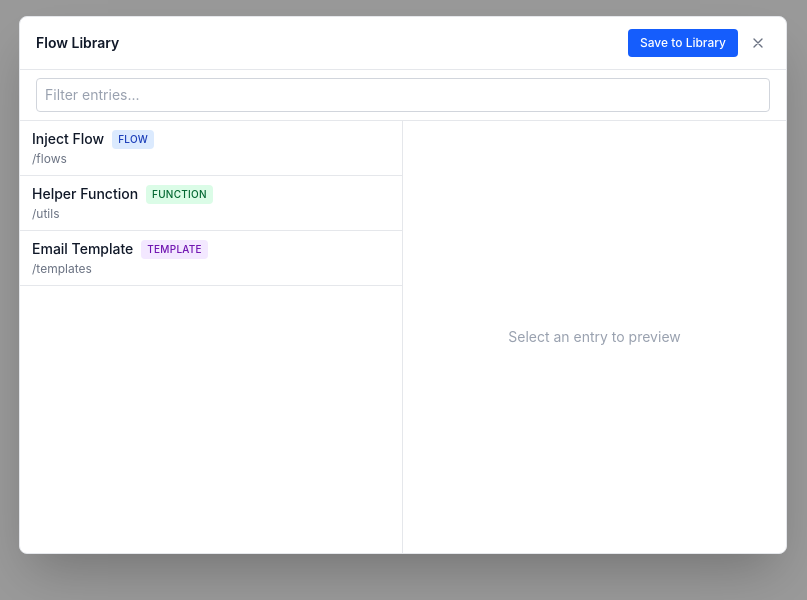
Scenario: LibraryDialog › rename › cancels rename on Escape
Click the button "Inject Flow flow /flows" at coordinates (68, 139), box x1=20 y1=121 x2=402 y2=176
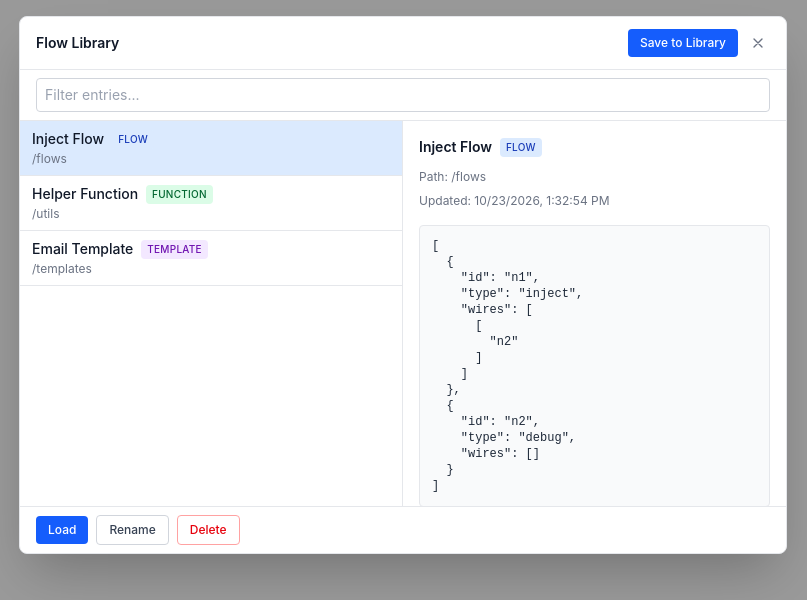
Click the button with test id "library-rename-button" at coordinates (133, 530), box x1=96 y1=515 x2=169 y2=545
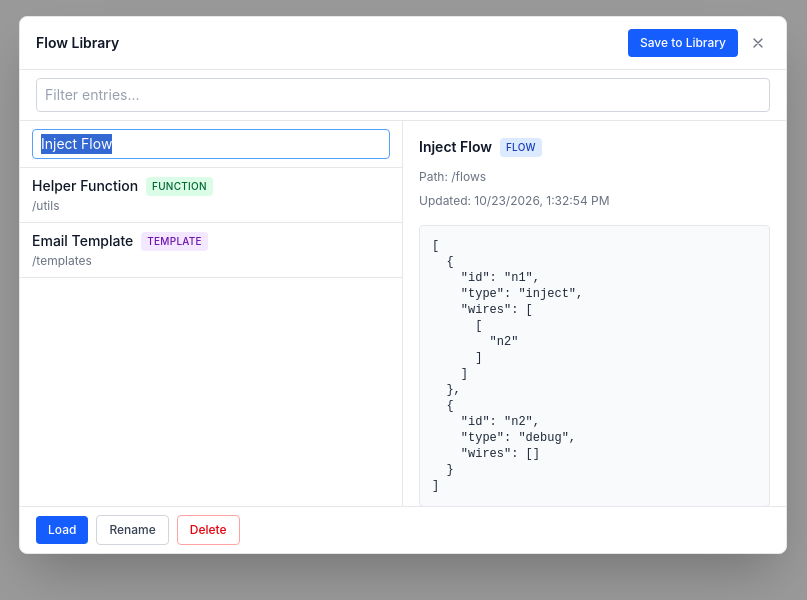
Replace the text in the field with test id "library-rename-input" with "Should Not Apply" at coordinates (211, 144), box x1=32 y1=129 x2=390 y2=159
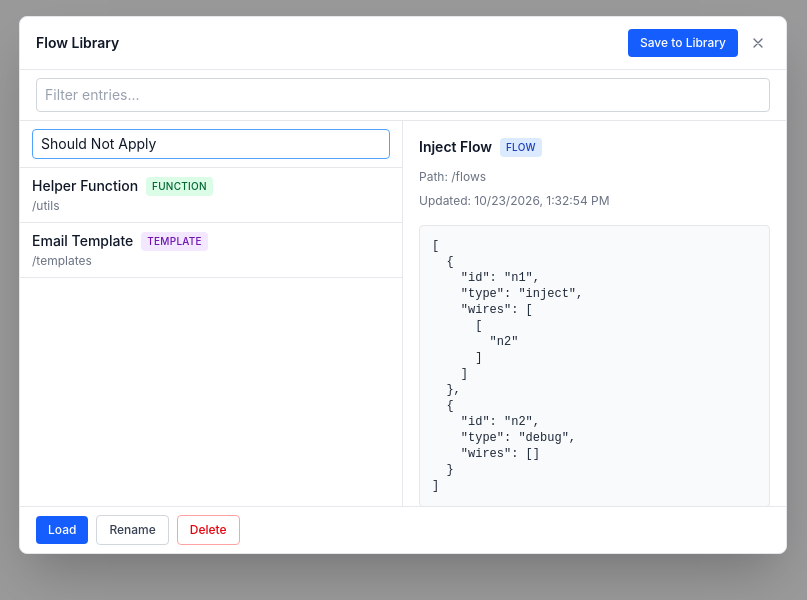
Press Escape in the field with test id "library-rename-input", box x1=32 y1=129 x2=390 y2=159
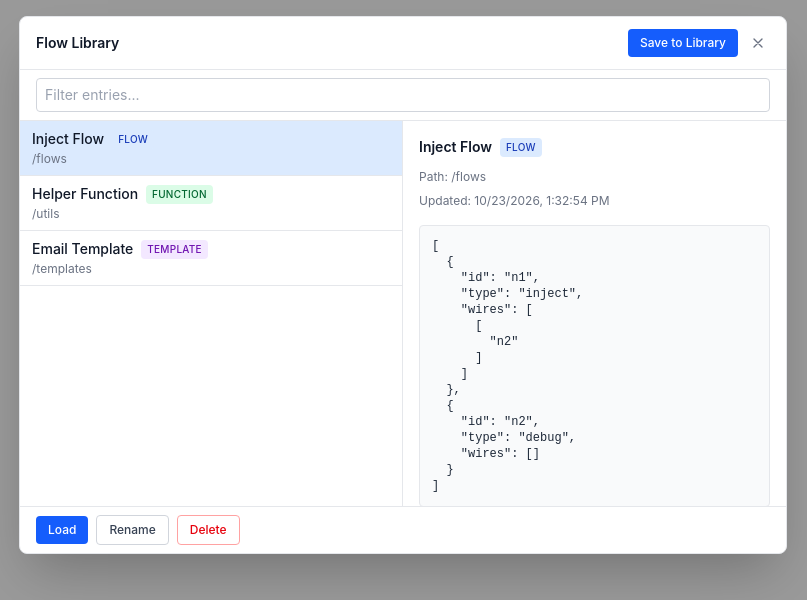
Expected: the field with test id "library-rename-input" is gone
Expected: the text "Inject Flow" is shown, x1=32 y1=129 x2=104 y2=149
